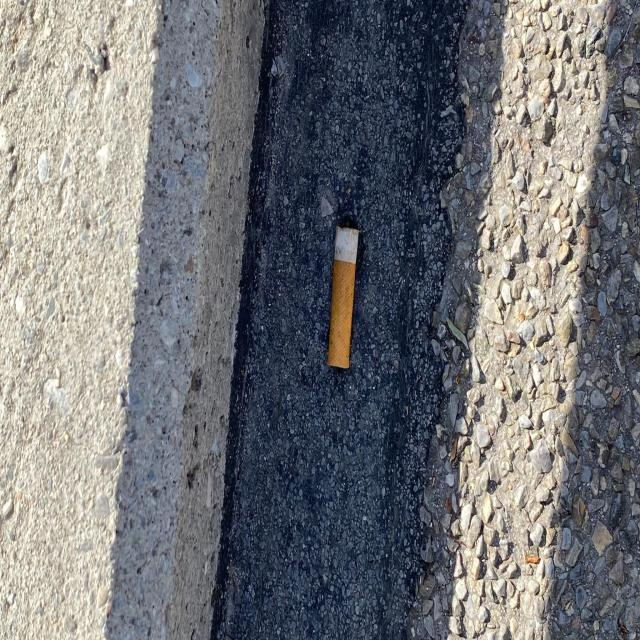other waste: (326, 214, 360, 370)
